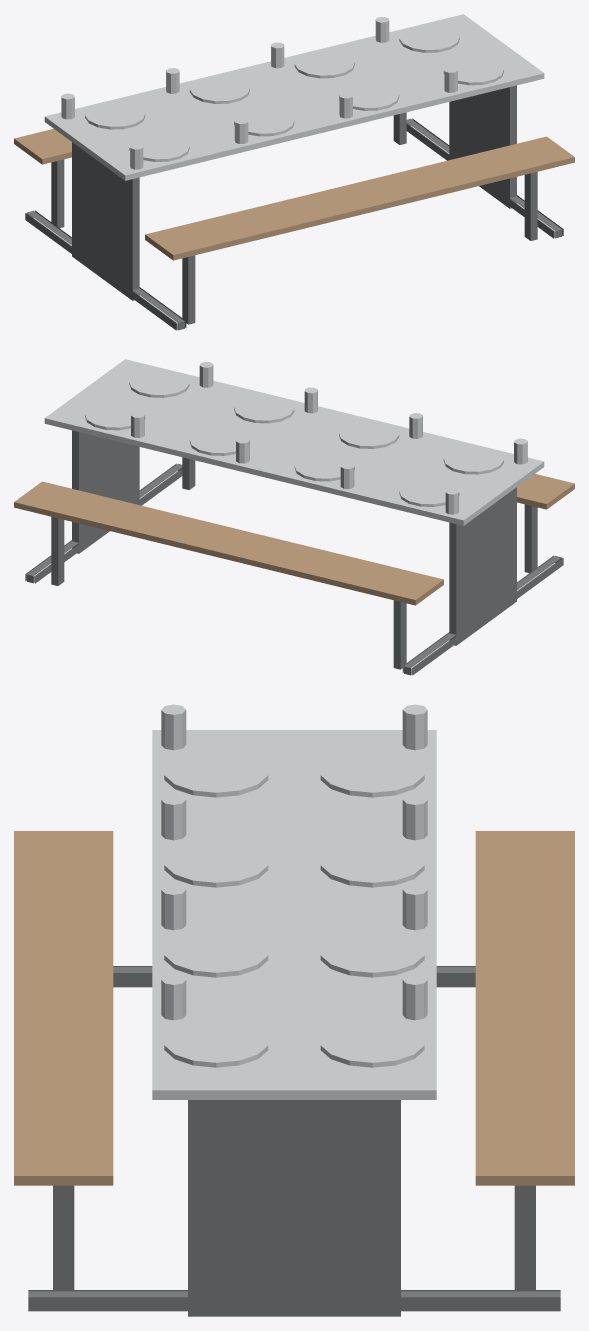
Rendered from Mess_Table.fbx.
3 views of the same model, one above another, from view 1: azimuth 30°, elevation 25°; view 2: azimuth 150°, elevation 25°; view 3: azimuth 270°, elevation 25° (orthographic). The views are drawn at different scales.
Parts seen in each view (by area): view 1: Mess_Table; view 2: Mess_Table; view 3: Mess_Table.
Part boxes in pixels (x1=…): Mess_Table: x1=14, y1=14, x2=574, y2=330; Mess_Table: x1=14, y1=359, x2=574, y2=675; Mess_Table: x1=14, y1=704, x2=574, y2=1316.
Size of the model in its own units: 2.4 by 0.86 by 1.58.
